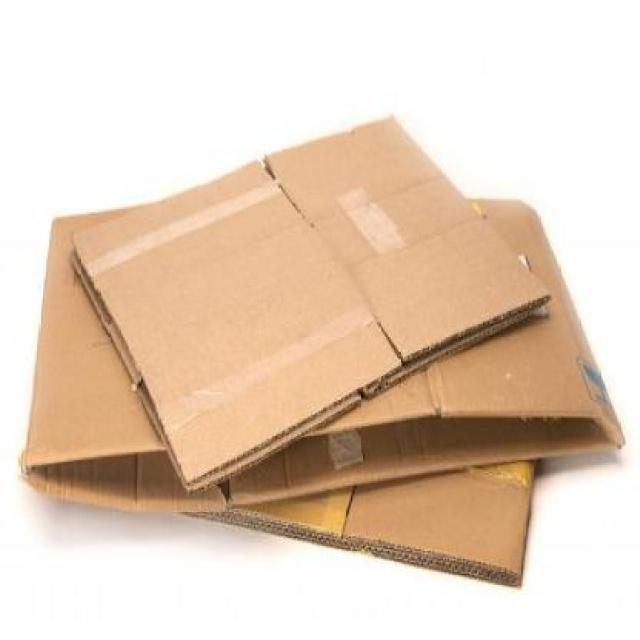box: (20, 194, 629, 603), (70, 104, 538, 497)
